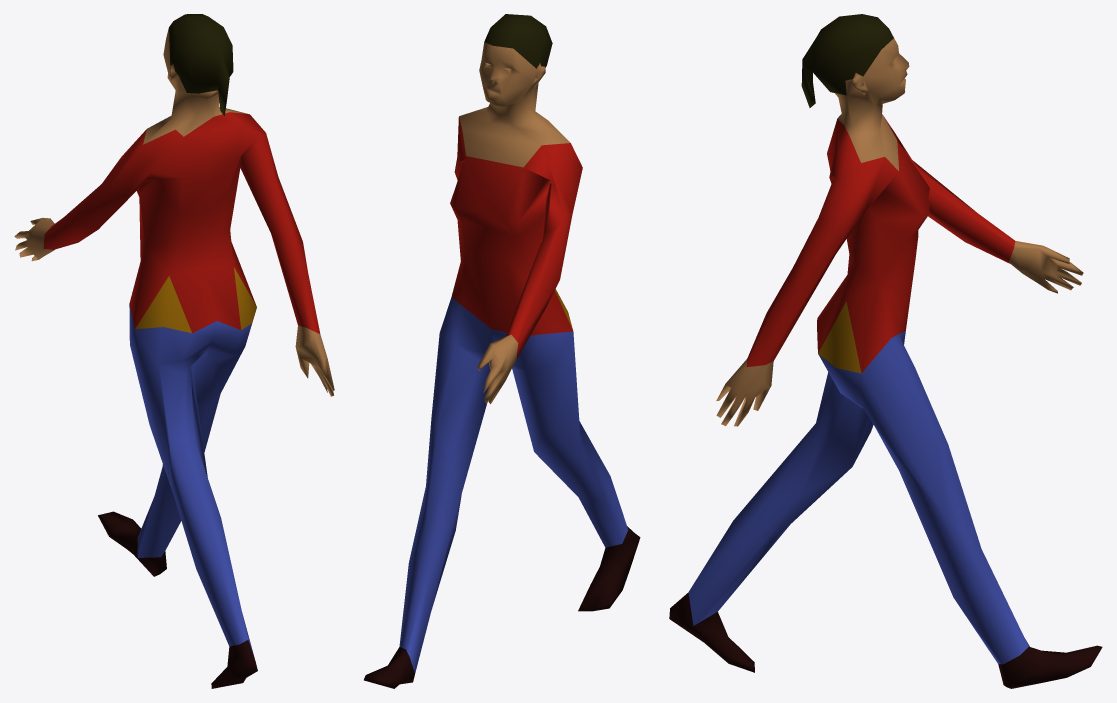
Rendered from personlowpoly_000005.obj.
3 views of the same model, side by side, from view 1: azimuth 30°, elevation 25°; view 2: azimuth 150°, elevation 25°; view 3: azimuth 270°, elevation 25° (orthographic). The views are drawn at different scales.
Visible parts, largest first — view 1: Cube; view 2: Cube; view 3: Cube.
Boxes of the visible parts, box(x1,y1,x2,y2) form: Cube: box(14, 14, 334, 688); Cube: box(364, 14, 640, 688); Cube: box(669, 14, 1102, 688).
Bounding box in the file's own units: 24.66 × 92.04 × 54.5.
